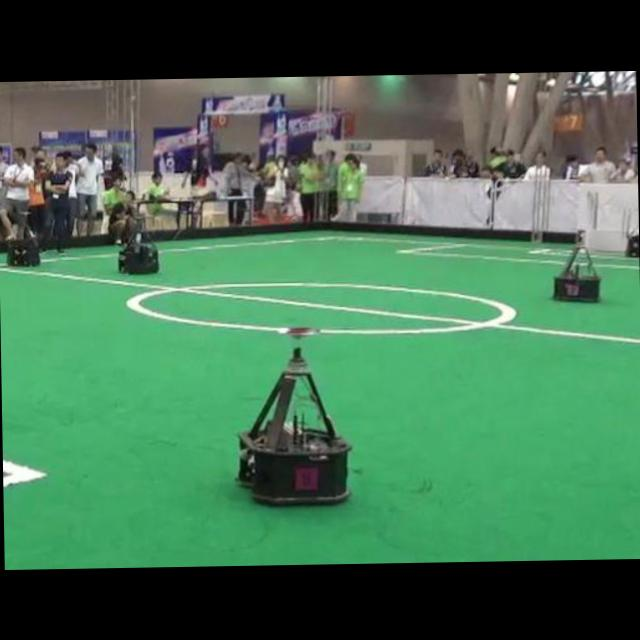robot: (238, 341, 351, 503), (553, 230, 599, 301), (118, 217, 159, 273), (6, 211, 40, 265)
